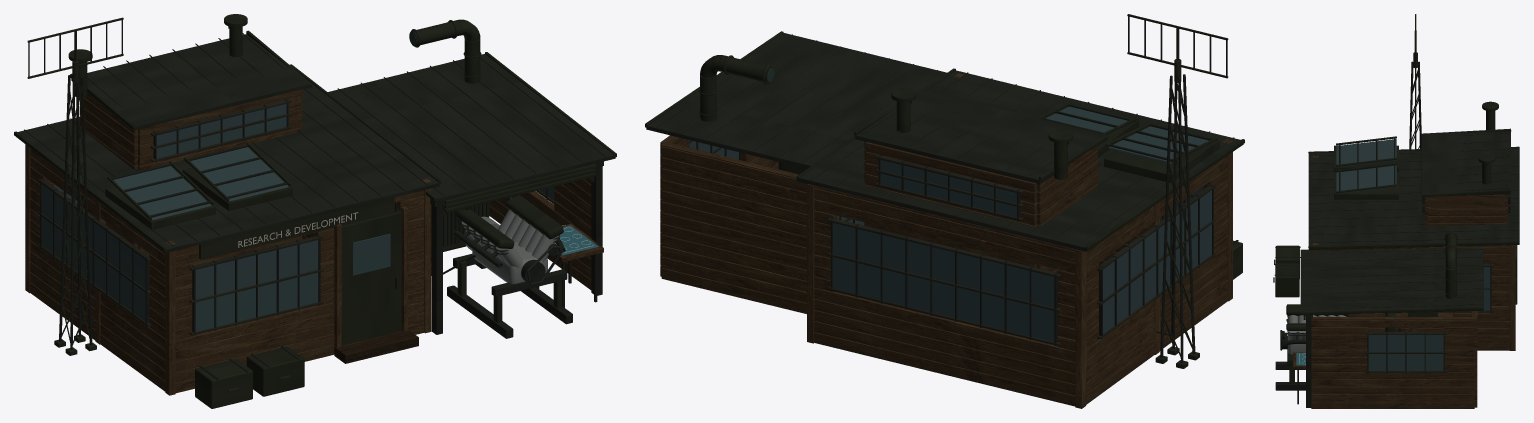
File: research_center.glb
3 renders of one model, left to right at view 1: azimuth 30°, elevation 25°; view 2: azimuth 150°, elevation 25°; view 3: azimuth 270°, elevation 25°, orthographic. The views are drawn at different scales.
Parts seen in each view (by area): view 1: Academy Weathered timber; view 2: Academy Weathered timber; view 3: Academy Weathered timber.
Boxes of the visible parts, x1,y1,x2,y2 form: Academy Weathered timber: (14,14,616,408); Academy Weathered timber: (645,14,1244,408); Academy Weathered timber: (1273,14,1519,408).
Bounding box in the file's own units: 2 × 1.2 × 1.19.
Materials: 15 (7 with a texture image).
